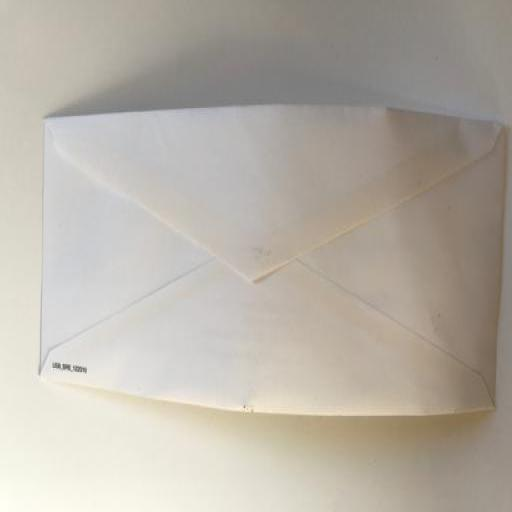paper: (39, 97, 504, 421)
